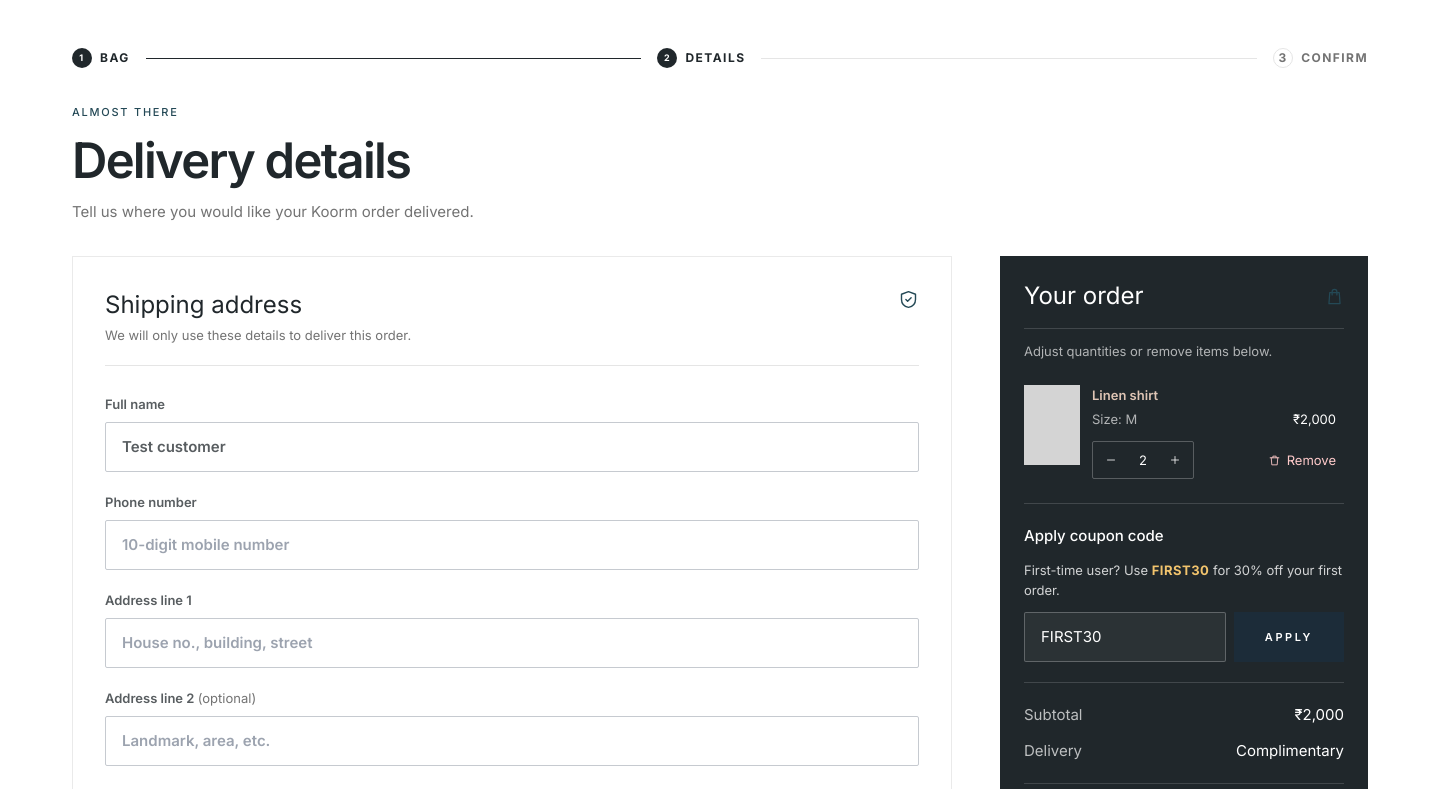
Scenario: prefills an eligible coupon when opening checkout directly
Expected: the field labelled "Apply coupon code" holds "FIRST30", [1024,612,1226,662]
Click the button "Apply": coordinates (1289, 637) [1234,612,1344,662]
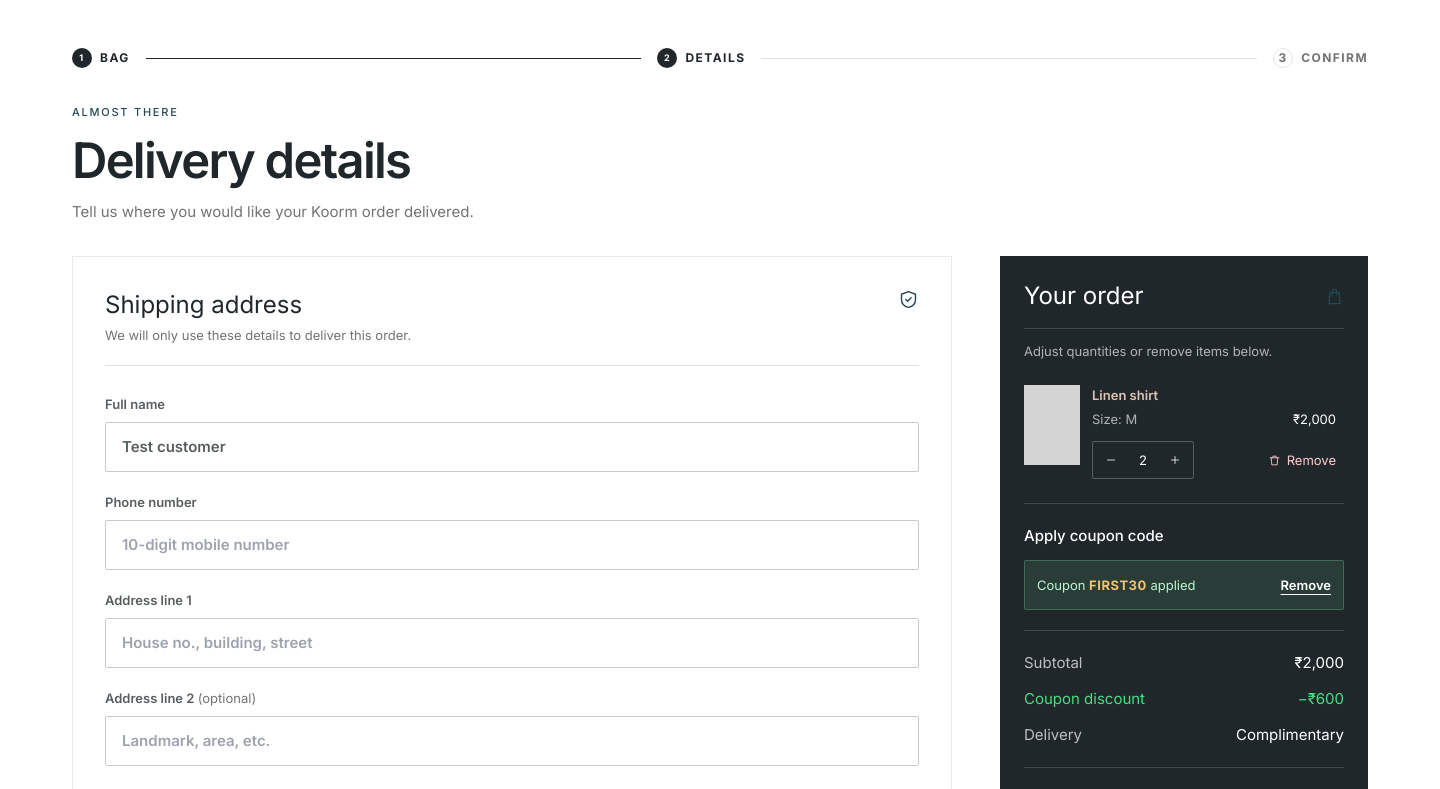
Expected: the message reads "Coupon FIRST30 applied", [1037,575,1196,595]
